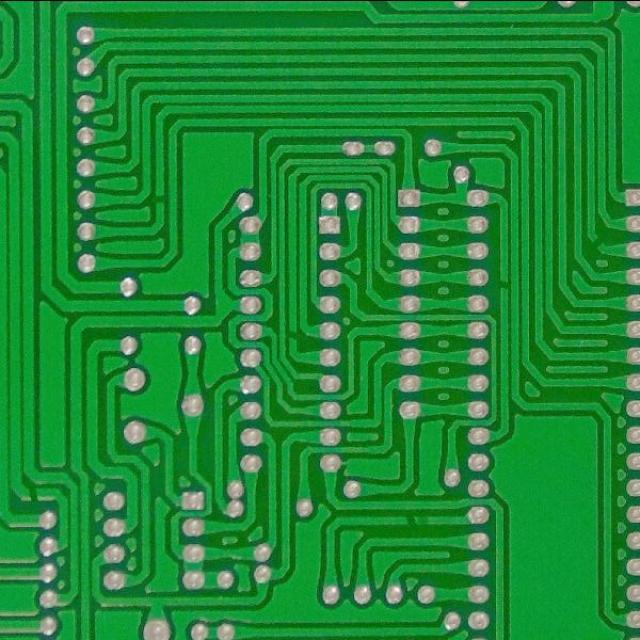Open_Circuit: (397, 510, 436, 531), (24, 478, 45, 510), (589, 229, 609, 253), (150, 189, 170, 211), (496, 273, 512, 297), (286, 324, 301, 346)
